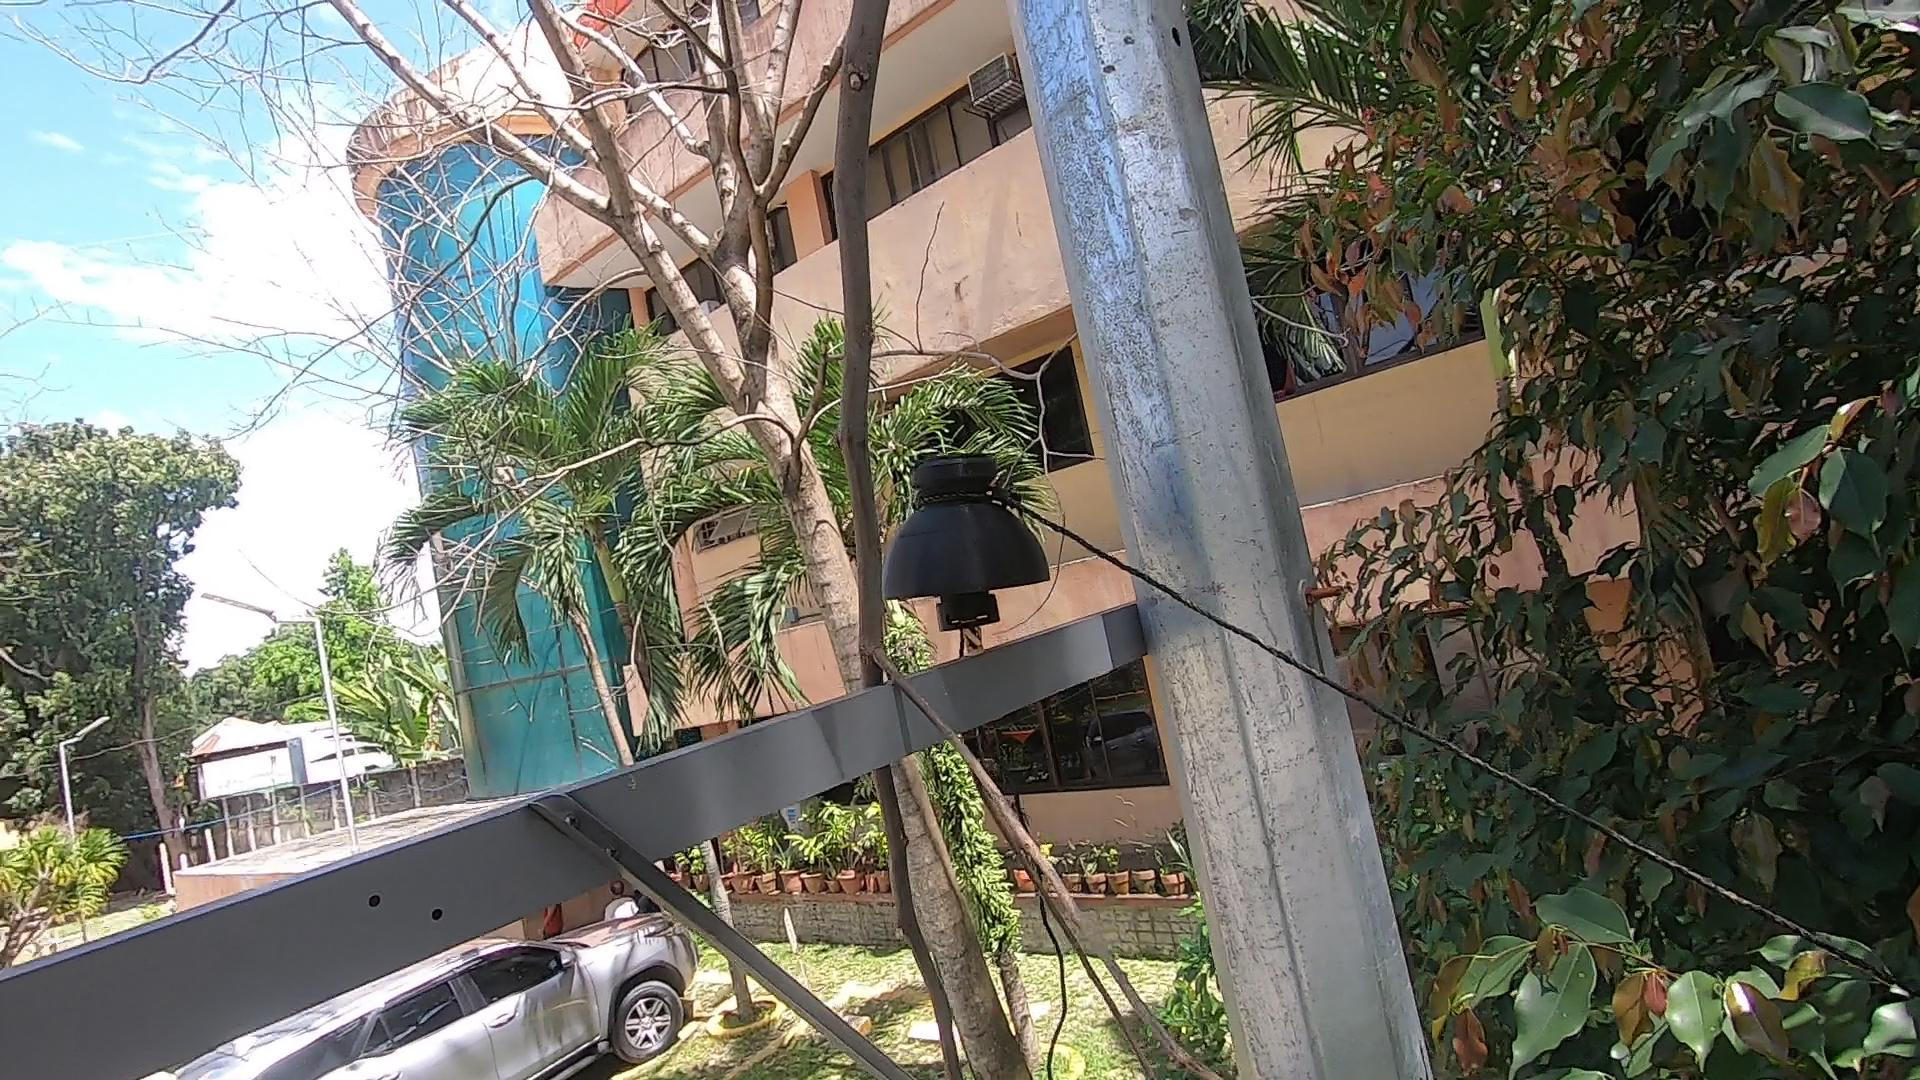tree branch: (789, 5, 1254, 1080)
